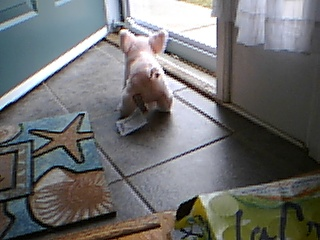piggy: (117, 26, 175, 117)
